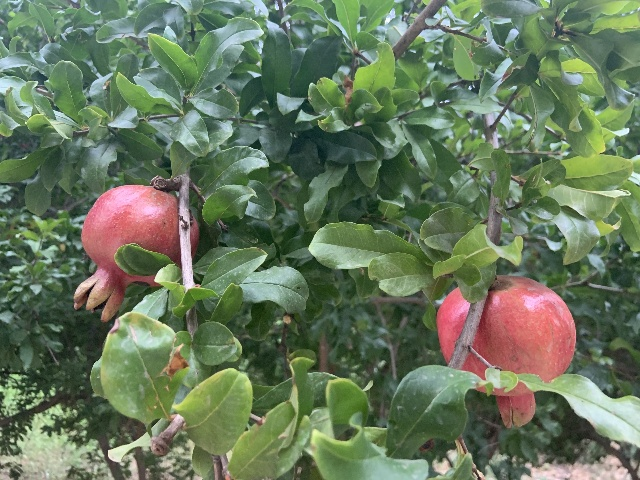ripe: (436, 277, 576, 428), (73, 184, 197, 322)
